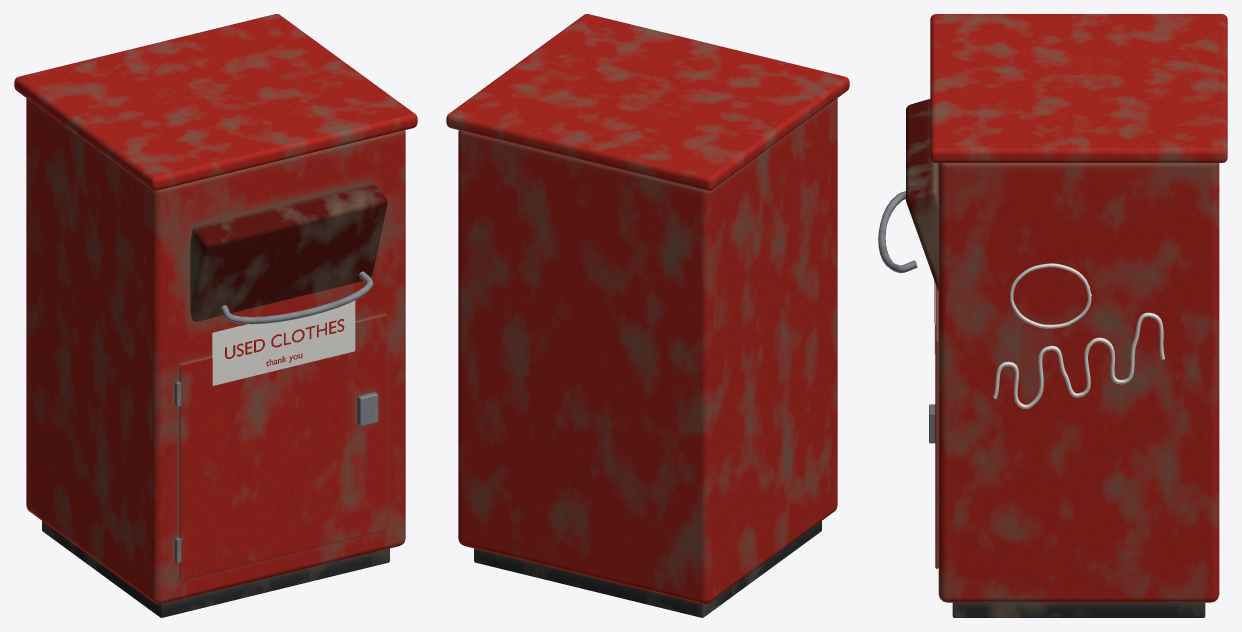
File: pod_pck.glb
The picture shows the model from 3 angles, left to right: view 1: azimuth 30°, elevation 25°; view 2: azimuth 150°, elevation 25°; view 3: azimuth 270°, elevation 25°; orthographic projection. The views are drawn at different scales.
Visible parts, largest first — view 1: Kontener, Napisy; view 2: Kontener; view 3: Kontener, Napisy.
Boxes of the visible parts, x1=… form: Kontener: x1=14, y1=14, x2=417, y2=617; Napisy: x1=212, y1=300, x2=355, y2=385; Kontener: x1=446, y1=14, x2=849, y2=617; Kontener: x1=878, y1=14, x2=1227, y2=617; Napisy: x1=934, y1=263, x2=1164, y2=408.
Size of the model in its own units: 1.16 by 1.88 by 1.25.
4 materials, 1 textured.
